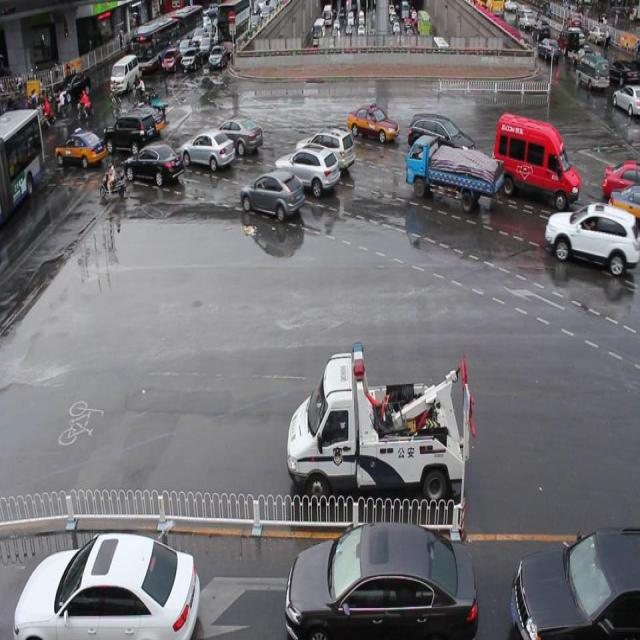bus: (288, 335, 476, 505), (406, 137, 502, 210)
car: (287, 520, 477, 640), (14, 528, 198, 640), (510, 528, 640, 640), (544, 202, 640, 278), (408, 108, 474, 160), (275, 143, 339, 195), (241, 171, 304, 219), (295, 127, 352, 173), (124, 142, 182, 186), (182, 129, 236, 170), (208, 116, 263, 154), (348, 100, 398, 136), (603, 154, 640, 197), (608, 180, 640, 227)
truck: (492, 107, 580, 202)
